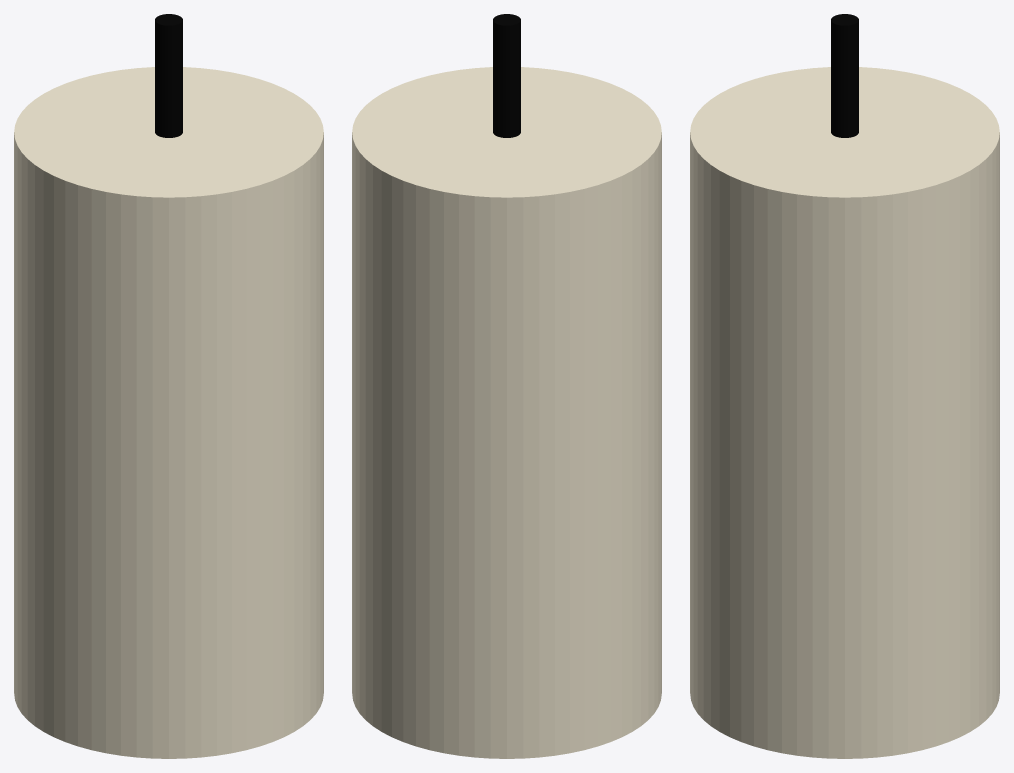
File: candela2_mensola.fbx
3 renders of one model, left to right at view 1: azimuth 30°, elevation 25°; view 2: azimuth 150°, elevation 25°; view 3: azimuth 270°, elevation 25°, orthographic.
Visible parts, largest first — view 1: candela2; view 2: candela2; view 3: candela2.
Part boxes in pixels (x1,y1,x2,y2): candela2: [14, 14, 323, 758]; candela2: [352, 14, 661, 758]; candela2: [690, 14, 999, 758].
Size of the model in its own units: 5 by 12 by 5.
Materials: 1 (1 with a texture image).
